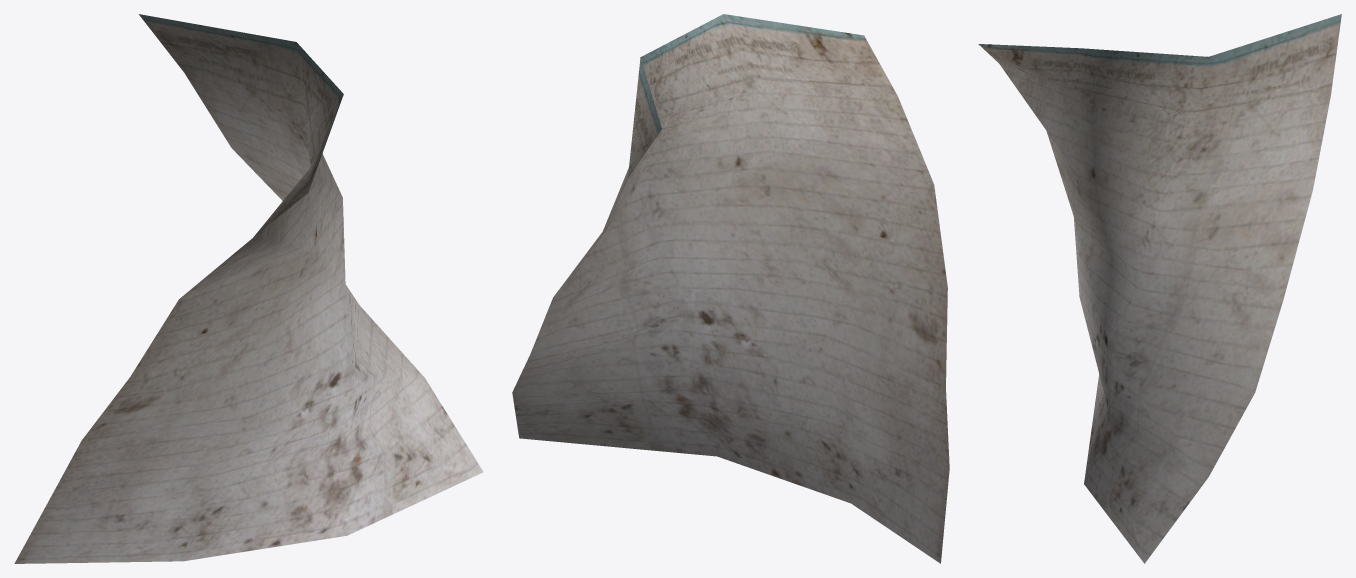
Rendered from fx_decal_burnt_paper2_LOD0.obj.
The picture shows the model from 3 angles, left to right: view 1: azimuth 30°, elevation 25°; view 2: azimuth 150°, elevation 25°; view 3: azimuth 270°, elevation 25°; orthographic projection. The views are drawn at different scales.
Parts seen in each view (by area): view 1: mtl_fx_decal_burnt_paper; view 2: mtl_fx_decal_burnt_paper; view 3: mtl_fx_decal_burnt_paper.
Part boxes in pixels (left/top/right/bottom): mtl_fx_decal_burnt_paper: left=14, top=14, right=483, bottom=563; mtl_fx_decal_burnt_paper: left=512, top=14, right=949, bottom=563; mtl_fx_decal_burnt_paper: left=978, top=14, right=1341, bottom=563.
Bounding box in the file's own units: 22.69 × 21.57 × 16.4.
